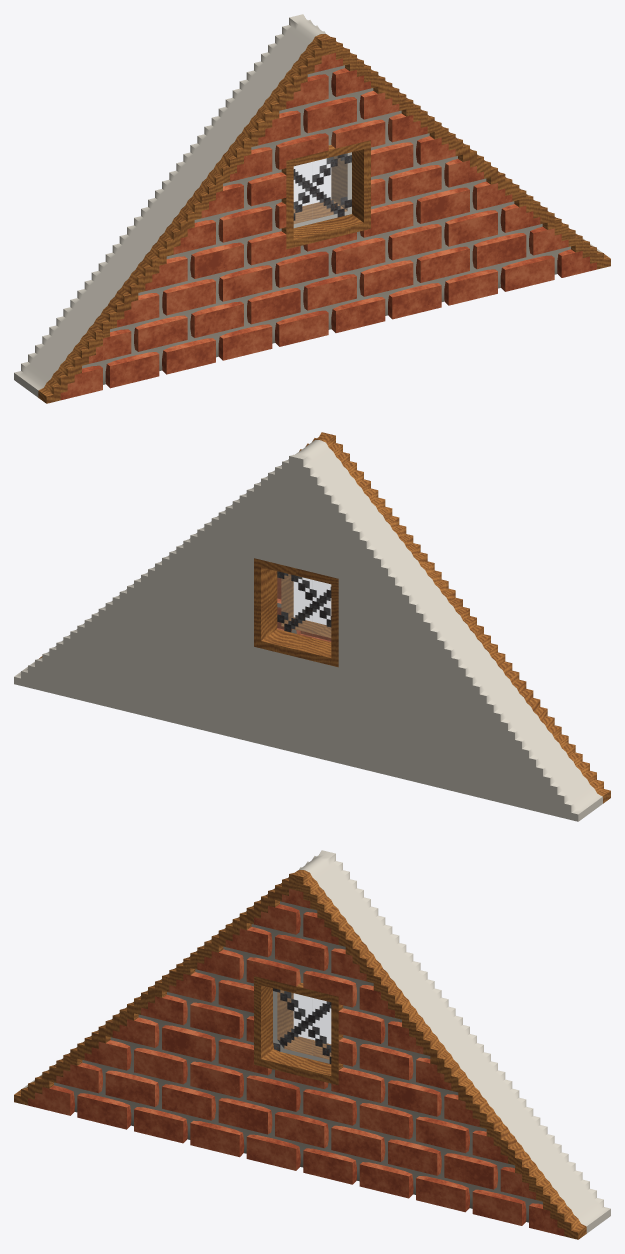
Rendered from roof_attic_gable_brick.glb.
3 renders of one model, top to bottom at view 1: azimuth 30°, elevation 25°; view 2: azimuth 150°, elevation 25°; view 3: azimuth 330°, elevation 25°, orthographic.
Visible parts, largest first — view 1: town_roof_attic_gable_brick; view 2: town_roof_attic_gable_brick; view 3: town_roof_attic_gable_brick.
Part boxes in pixels (x1=…): town_roof_attic_gable_brick: x1=14, y1=14, x2=610, y2=403; town_roof_attic_gable_brick: x1=14, y1=432, x2=610, y2=821; town_roof_attic_gable_brick: x1=14, y1=850, x2=610, y2=1239.
Size of the model in its own units: 2.5 by 1.25 by 0.25.
4 materials, 1 textured.
